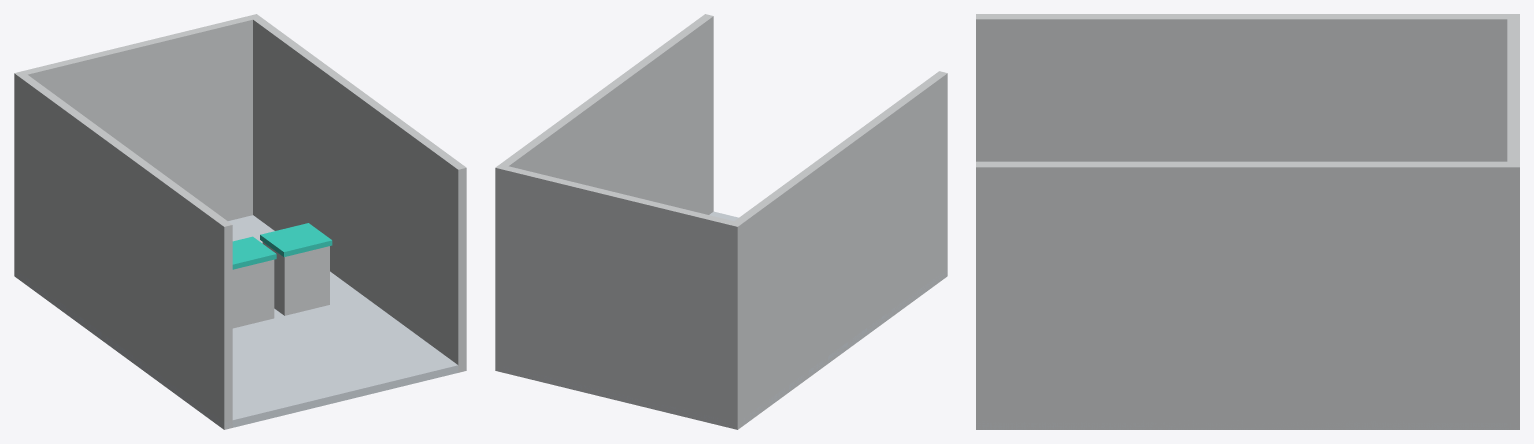
3 views of the same model, side by side, from view 1: azimuth 30°, elevation 25°; view 2: azimuth 150°, elevation 25°; view 3: azimuth 270°, elevation 25° (orthographic). The views are drawn at different scales.
Visible parts, largest first — view 1: Exhibition Booth Concept; view 2: Exhibition Booth Concept; view 3: Exhibition Booth Concept.
Part boxes in pixels (<box>): Exhibition Booth Concept: <box>14,14,466,429</box>; Exhibition Booth Concept: <box>495,14,947,429</box>; Exhibition Booth Concept: <box>976,14,1519,429</box>.
Bounding box in the file's own units: 4 × 3.2 × 6.
